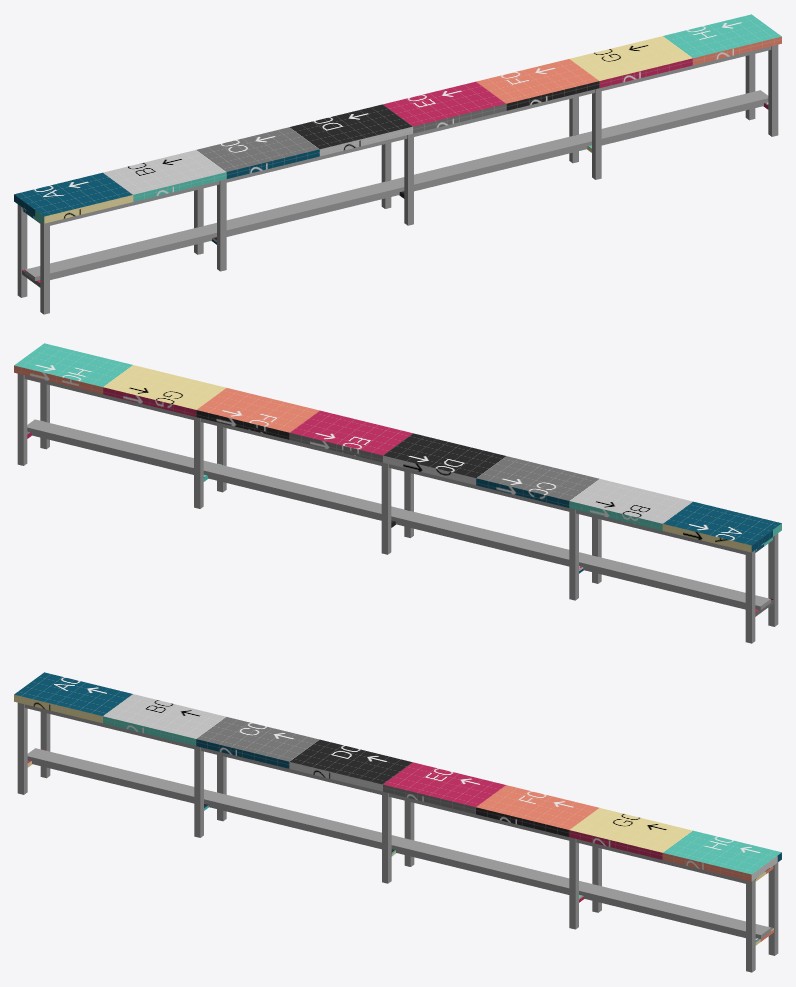
Rendered from SM_windowtable.fbx.
3 views of the same model, one above another, from view 1: azimuth 30°, elevation 25°; view 2: azimuth 150°, elevation 25°; view 3: azimuth 330°, elevation 25° (orthographic).
Visible parts, largest first — view 1: windowtable_low; view 2: windowtable_low; view 3: windowtable_low.
Part boxes in pixels (x1,y1,x2,y2): windowtable_low: (14, 14, 781, 314); windowtable_low: (14, 343, 781, 643); windowtable_low: (14, 672, 781, 972).
Size of the model in its own units: 826 by 107 by 58.87.
